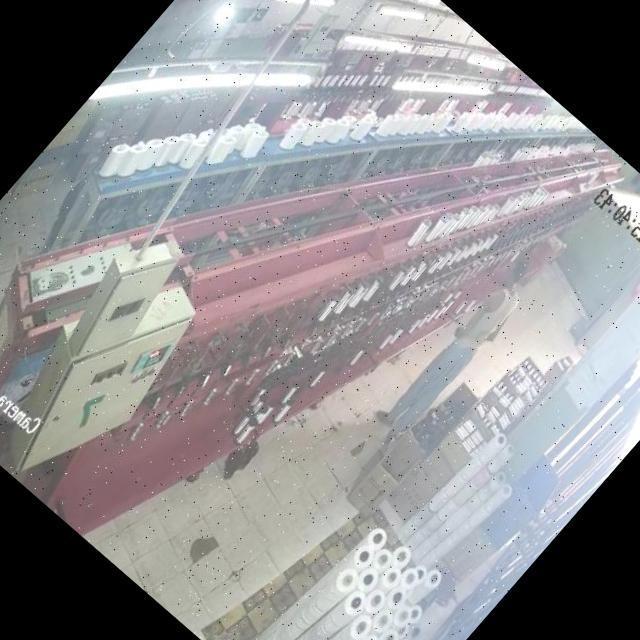person: (375, 255, 540, 438)
